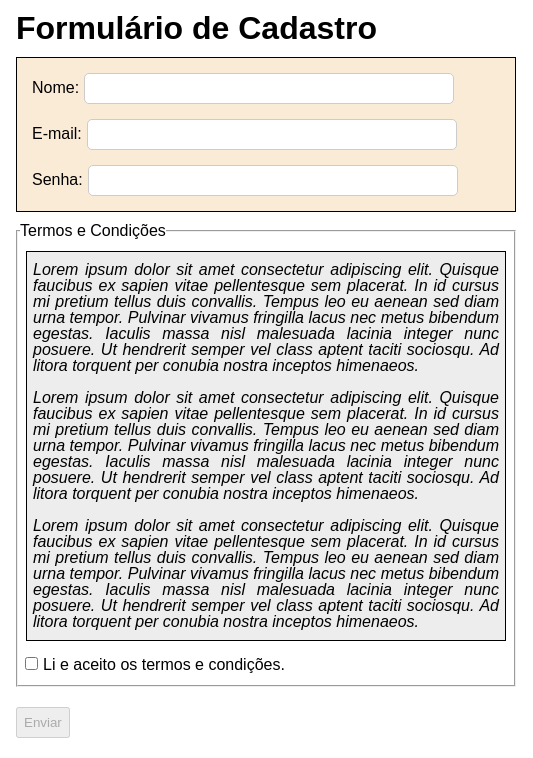
Scenario: form › button › should send button be disabled if a field is not validated correctly
valores válidos
Step 1. Type "Usuário Teste" into the field with test id "input-name" → [269, 88], box [84, 73, 454, 104]
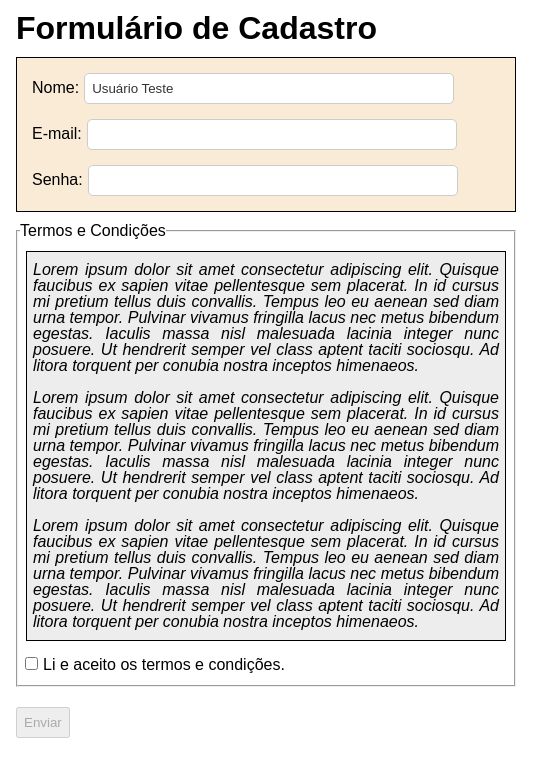
Step 2. Type "teste12345" into the password field with test id "input-password" → [273, 180], box [88, 165, 458, 196]
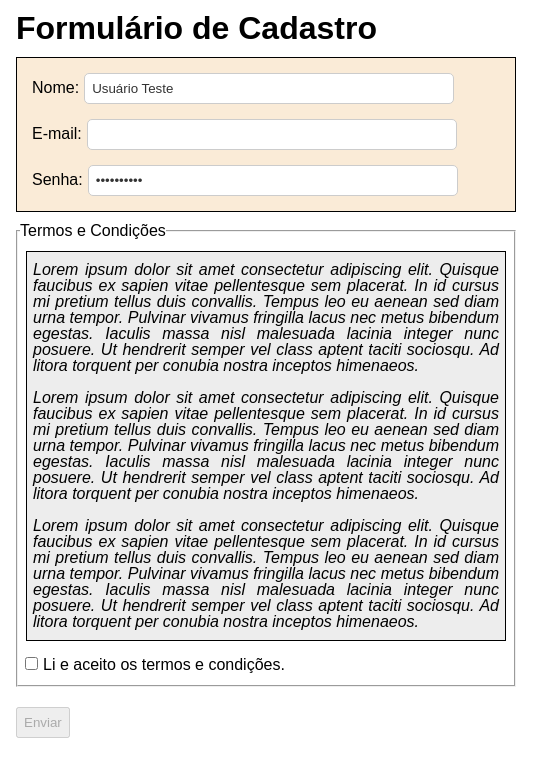
Step 3. Click the checkbox with test id "input-terms" → [32, 664], box [25, 657, 38, 670]
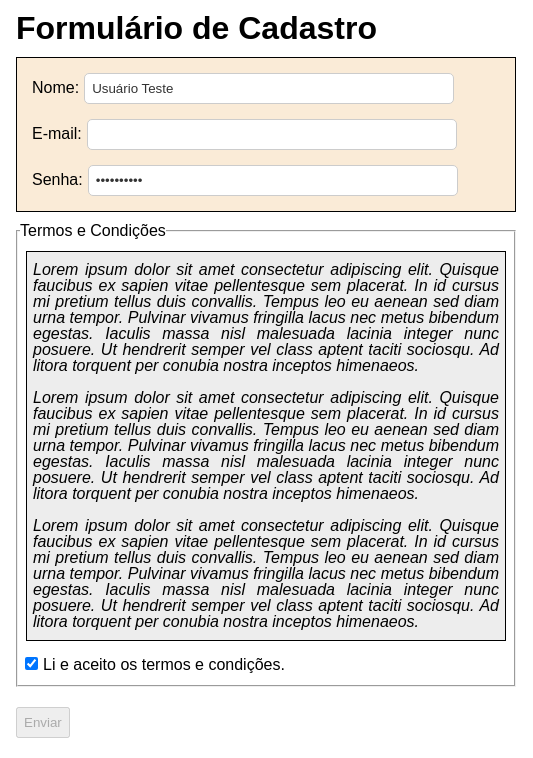
valor inválido
Step 4. Type "teste@teste" into the field with test id "input-email" → [272, 134], box [87, 119, 457, 150]
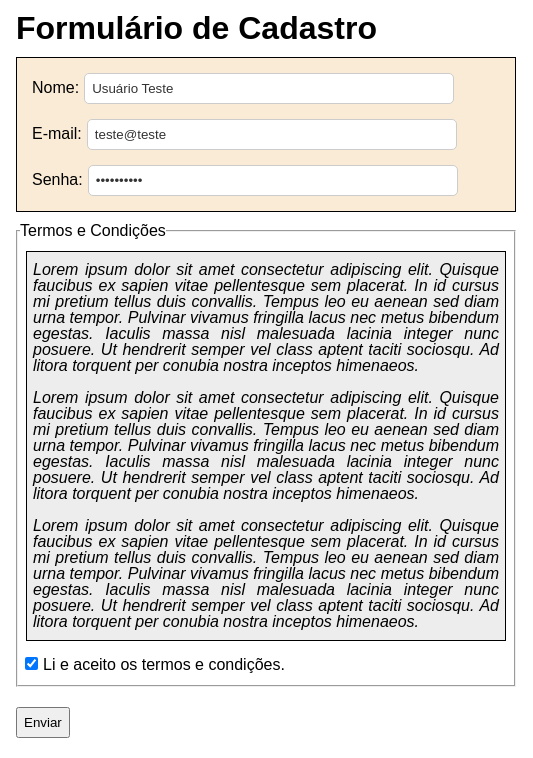
Step 5. Leave the field with test id "input-email", box [87, 119, 457, 150]
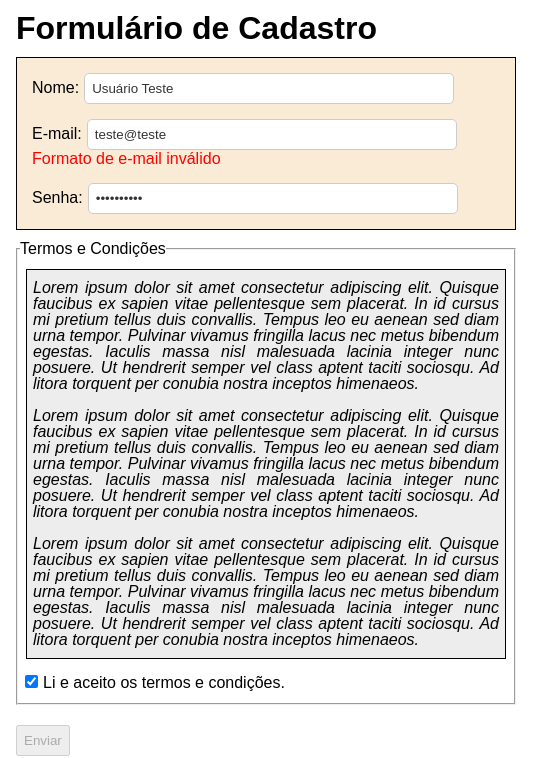
Result: the button with test id "button-submit" is disabled at [16, 725, 70, 756]
